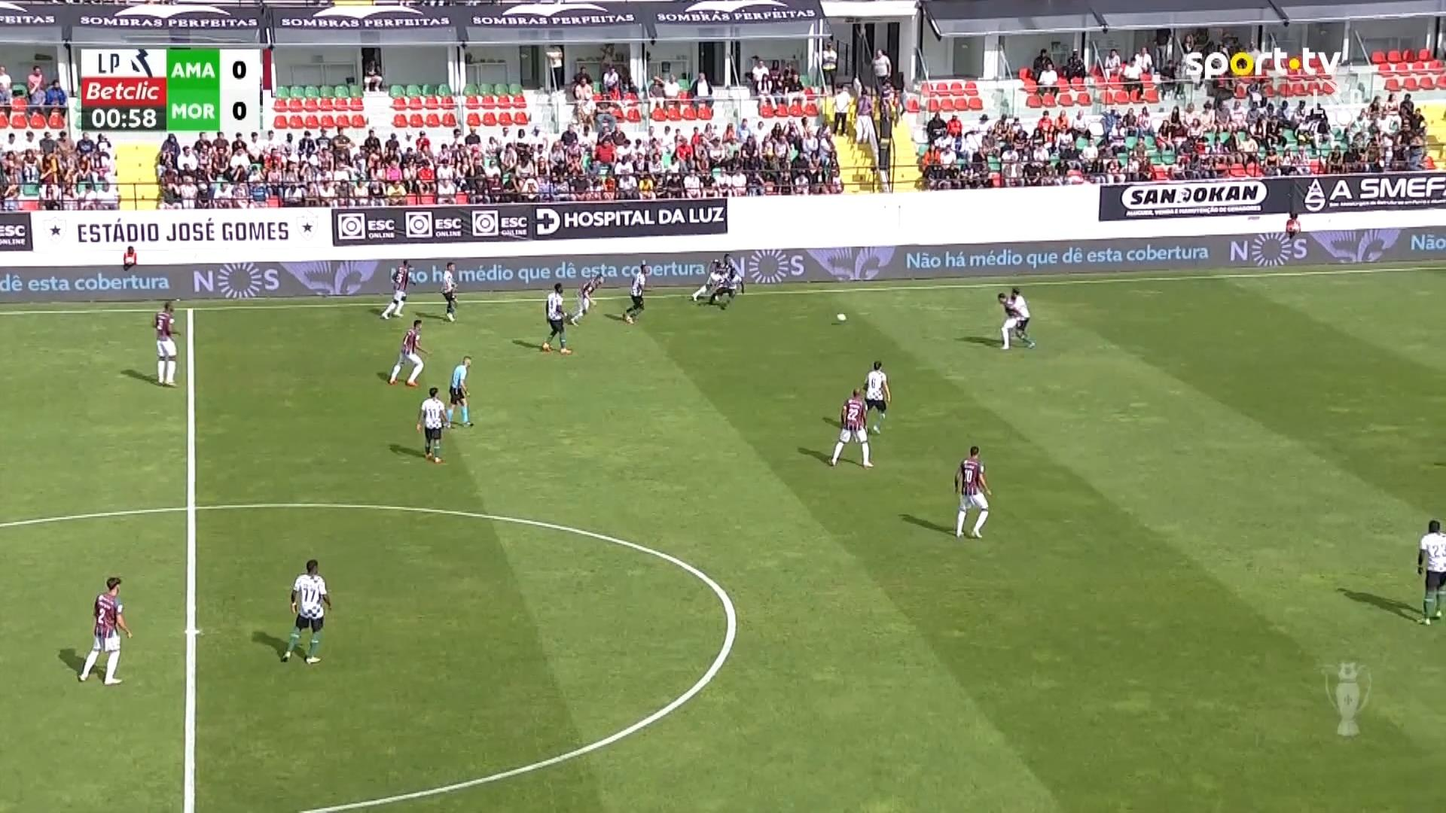ball: (836, 312, 846, 321), (872, 425, 880, 434)
player: (77, 575, 132, 685), (279, 559, 331, 664), (828, 386, 874, 468), (953, 445, 991, 538), (1415, 518, 1444, 625), (386, 318, 430, 386), (415, 385, 451, 463), (996, 286, 1036, 349), (539, 282, 573, 355), (690, 254, 739, 302), (153, 301, 179, 386), (862, 359, 890, 434), (380, 259, 413, 319), (567, 273, 604, 326), (621, 260, 649, 323), (706, 268, 743, 310), (439, 261, 459, 322)
referee: (446, 355, 474, 427)
